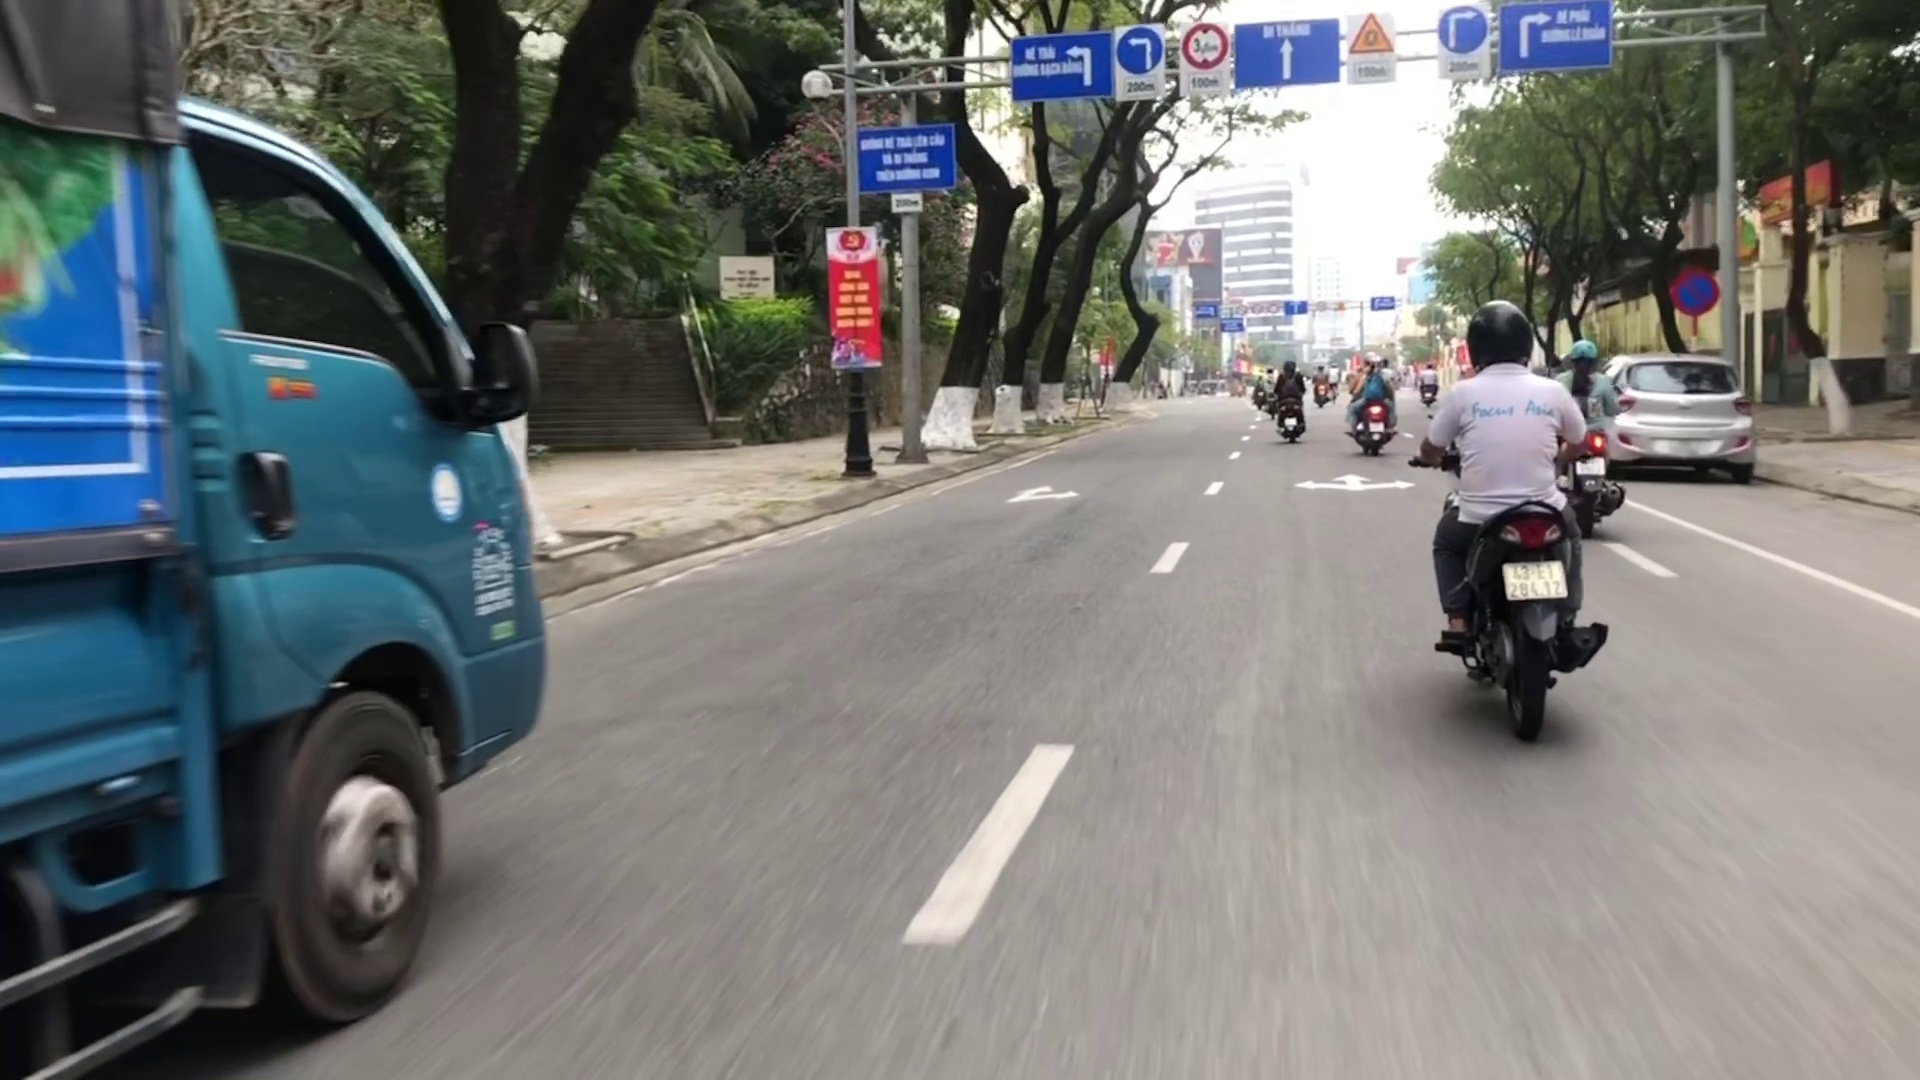Cam do xe: (1667, 262, 1721, 319)
